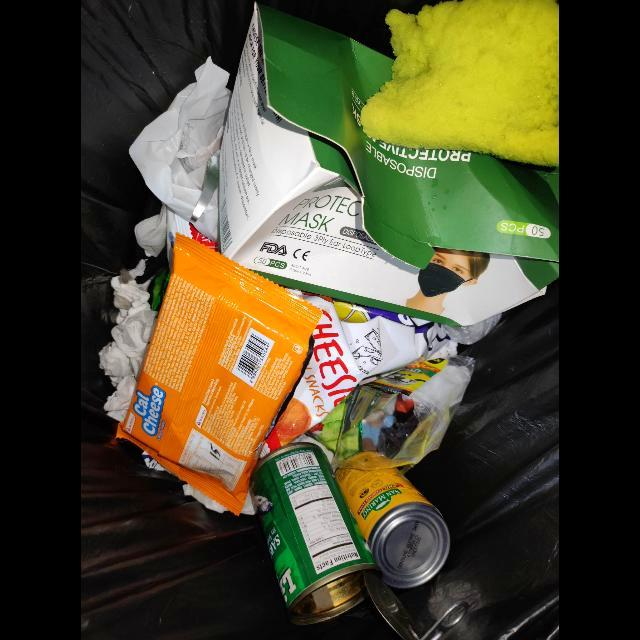aluminum: (253, 442, 470, 640), (336, 452, 451, 589)
cardboard: (219, 4, 560, 326)
food_wrapper: (117, 234, 323, 516), (258, 292, 450, 460)
paper: (98, 260, 158, 423)
